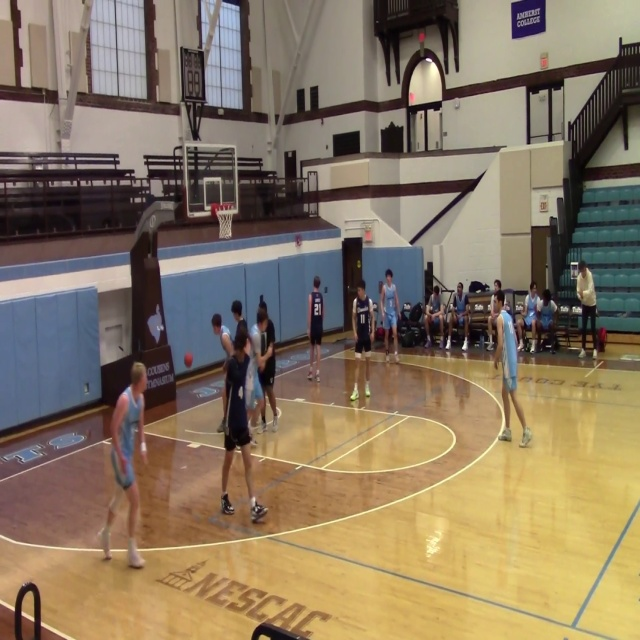Basketball: (184, 352, 193, 367), (375, 327, 385, 340), (418, 32, 425, 42), (356, 260, 361, 268)
